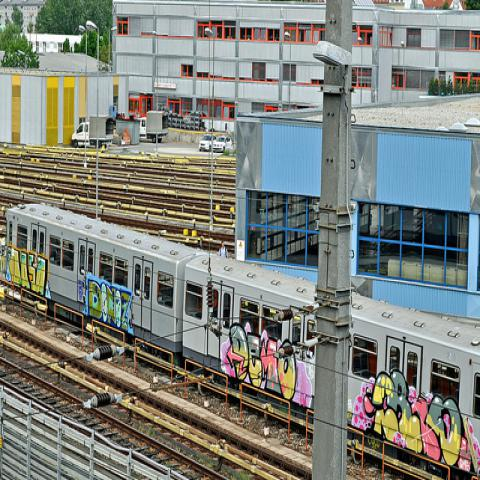car: (212, 133, 232, 154), (198, 134, 216, 152)
truck: (71, 114, 114, 149), (138, 108, 169, 144)
